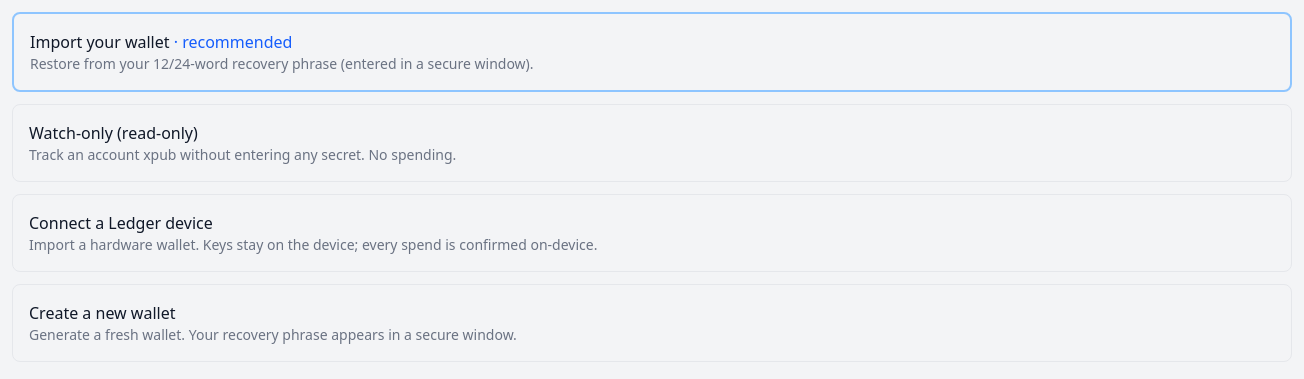
AddWalletForm — Ledger import path › navigates to the Ledger screen and shows device prep instructions
The image size is (1304, 379).
Step 1. Click the text "Connect a Ledger device" → x=121, y=223, box [29, 212, 213, 234]
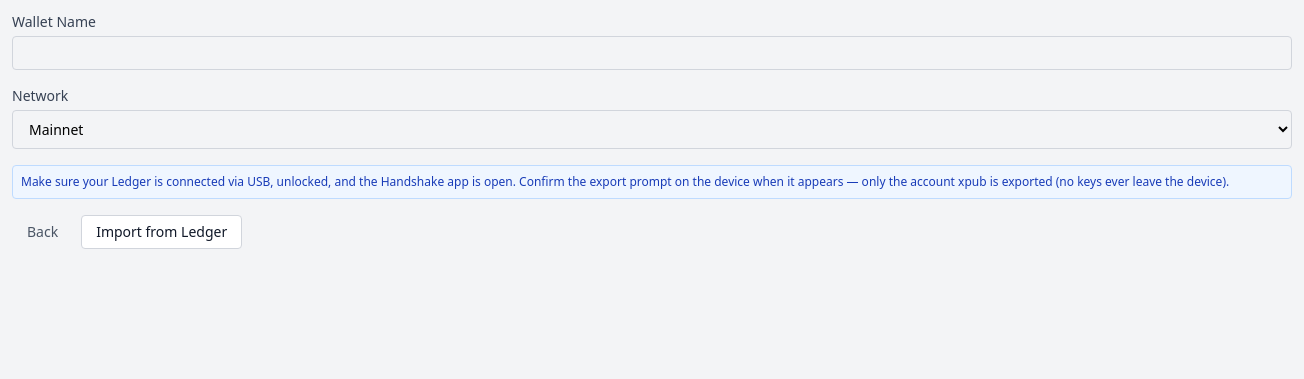
Check: the text "Make sure your Ledger is connected via USB, unlocked, and the Handshake" is shown, box [21, 173, 1229, 190]
Check: the button "Import from Ledger" is shown, box [81, 215, 242, 249]
